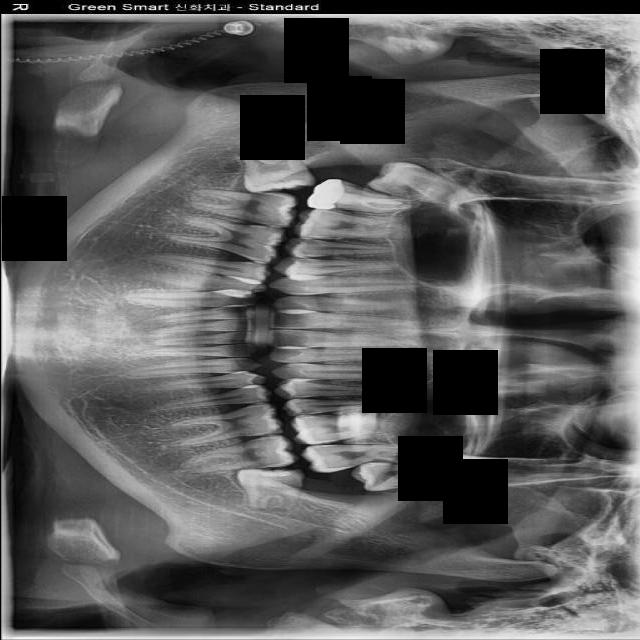3M ESPE Implant: (364, 155, 487, 214)
52: (306, 178, 344, 210)
73: (330, 179, 420, 231), (58, 578, 90, 594)
BioHorizons Implant: (299, 443, 409, 473)
BioLife Implant: (349, 462, 449, 491)
Biomet 3i Implant: (234, 465, 303, 511)
Blue Sky Bio Implant: (179, 432, 296, 475)
Caries: (305, 177, 421, 217)
Implant: (188, 176, 299, 231)
Keystone Dental Implant: (239, 140, 315, 195)
